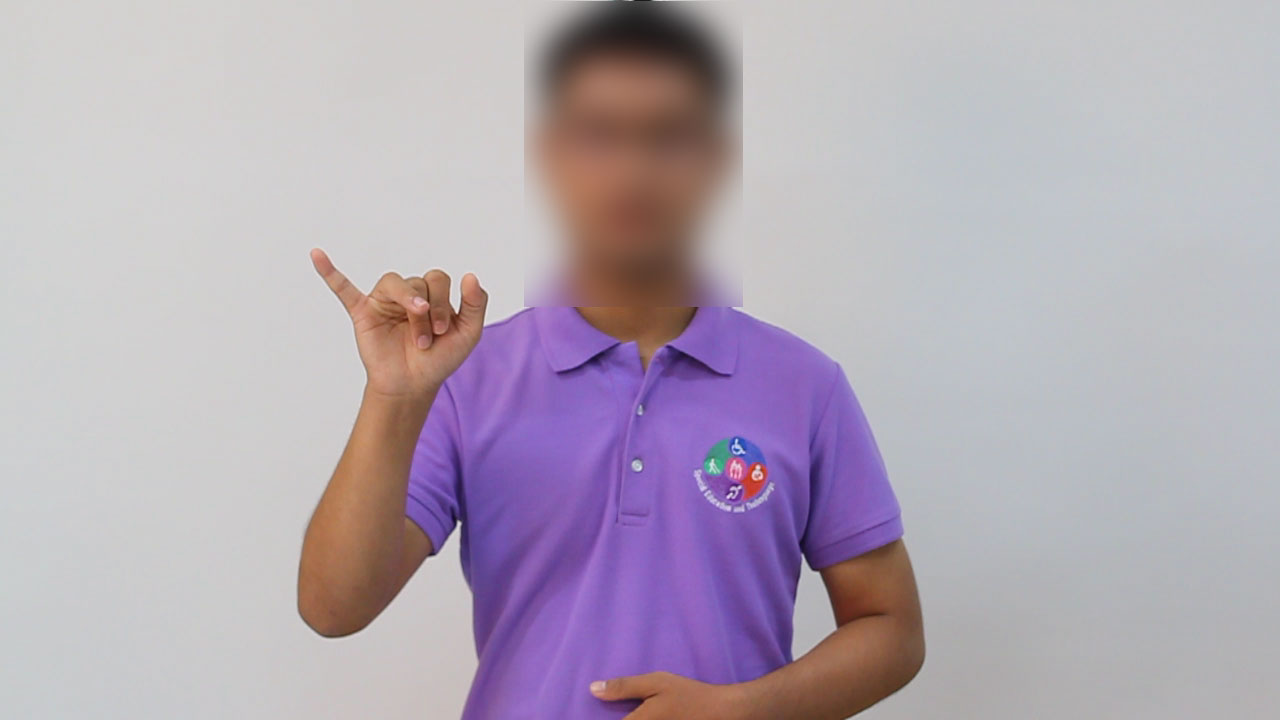yor: (295, 242, 500, 407)
